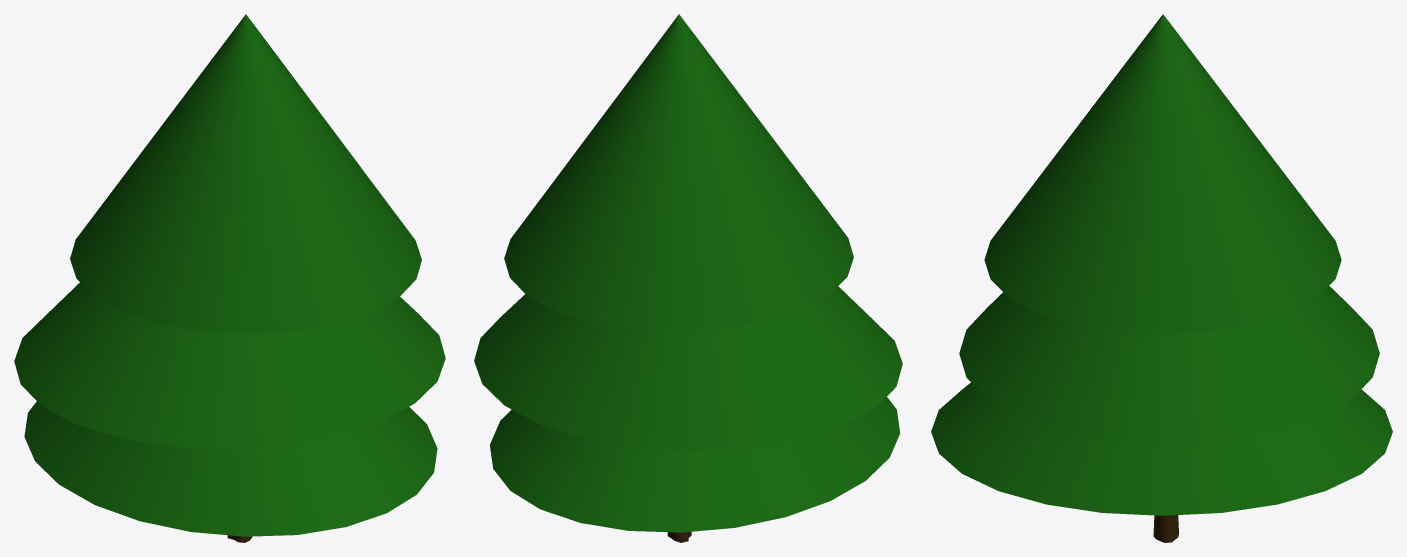
Rendered from tree_two.fbx.
3 views of the same model, side by side, from view 1: azimuth 30°, elevation 25°; view 2: azimuth 150°, elevation 25°; view 3: azimuth 270°, elevation 25° (orthographic).
Parts seen in each view (by area): view 1: Foliage001; view 2: Foliage001; view 3: Foliage001.
Part boxes in pixels (x1,y1,x2,y2): Foliage001: (14, 14, 445, 542); Foliage001: (474, 14, 902, 542); Foliage001: (931, 14, 1392, 542).
Bounding box in the file's own units: 574 × 762 × 608.
